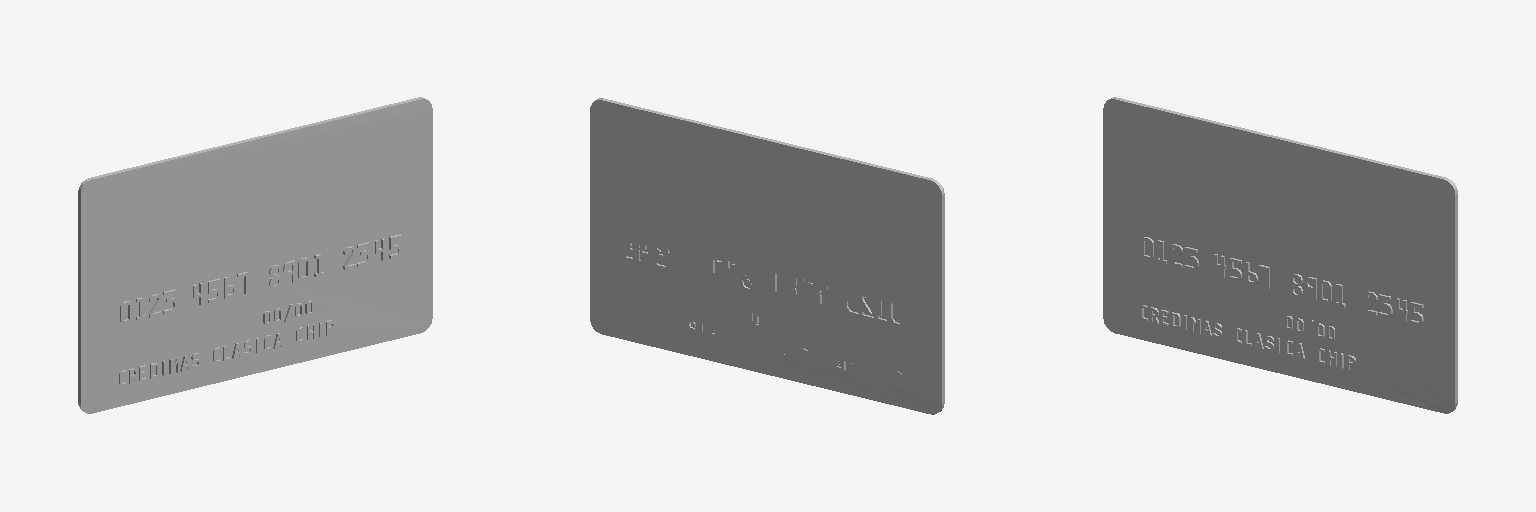
The model's file is credit-card 2.obj.
3 renders of one model, left to right at view 1: azimuth 30°, elevation 25°; view 2: azimuth 150°, elevation 25°; view 3: azimuth 330°, elevation 25°, orthographic.
Parts seen in each view (by area): view 1: Tarjeta1; view 2: Tarjeta1; view 3: Tarjeta1.
Part boxes in pixels (x1,y1,x2,y2): Tarjeta1: (78, 97, 432, 413); Tarjeta1: (590, 98, 944, 414); Tarjeta1: (1103, 97, 1457, 413).
Size of the model in its own units: 0.085 by 0.054 by 0.0016.